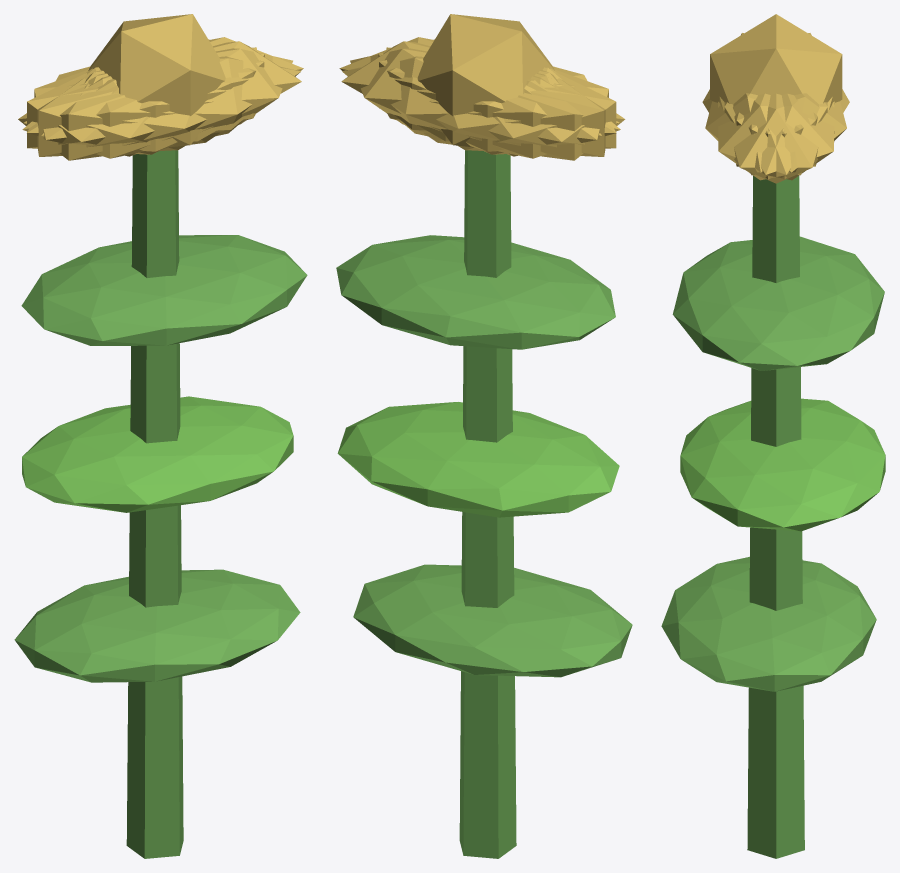
The model's file is barringtonia-asiatica.glb.
3 renders of one model, left to right at view 1: azimuth 30°, elevation 25°; view 2: azimuth 150°, elevation 25°; view 3: azimuth 270°, elevation 25°, orthographic.
Visible parts, largest first — view 1: stem, leaf0, leaf2, leaf1, center, petal1, petal6, petal2, petal5, petal7, petal0, petal4 (+2 smaller); view 2: stem, leaf2, leaf1, leaf0, center, petal8, petal3, petal7, petal4, petal2, petal0, petal5 (+2 smaller); view 3: stem, leaf2, leaf1, leaf0, center, petal0, petal4, petal5, petal1, petal8.
Part boxes in pixels (x1,y1,x2,y2): stem: (126, 150, 183, 858); leaf0: (14, 569, 300, 682); leaf2: (21, 235, 307, 345); leaf1: (22, 396, 293, 512); center: (88, 14, 225, 147); petal1: (22, 56, 300, 158); petal6: (18, 68, 219, 160); petal2: (37, 47, 256, 156); petal5: (41, 48, 292, 151); petal7: (27, 53, 264, 154); petal0: (88, 41, 301, 141); petal4: (24, 37, 303, 133); stem: (459, 150, 516, 858); leaf2: (336, 235, 615, 349); leaf1: (337, 402, 619, 517); leaf0: (353, 564, 632, 677); center: (417, 14, 554, 147); petal8: (342, 56, 620, 158); petal3: (423, 68, 625, 160); petal7: (386, 47, 605, 156); petal4: (350, 48, 601, 151); petal2: (378, 53, 616, 154); petal0: (341, 41, 554, 141); petal5: (339, 37, 619, 133); stem: (747, 175, 804, 858); leaf2: (672, 236, 884, 370); leaf1: (680, 398, 885, 531); leaf0: (661, 556, 876, 691); center: (710, 14, 842, 104); petal0: (719, 93, 832, 183); petal4: (724, 93, 834, 180); petal5: (718, 93, 827, 180); petal1: (705, 93, 817, 172); petal8: (734, 93, 846, 172).
Bounding box in the file's own units: 0.1452 × 0.417 × 0.1039.
